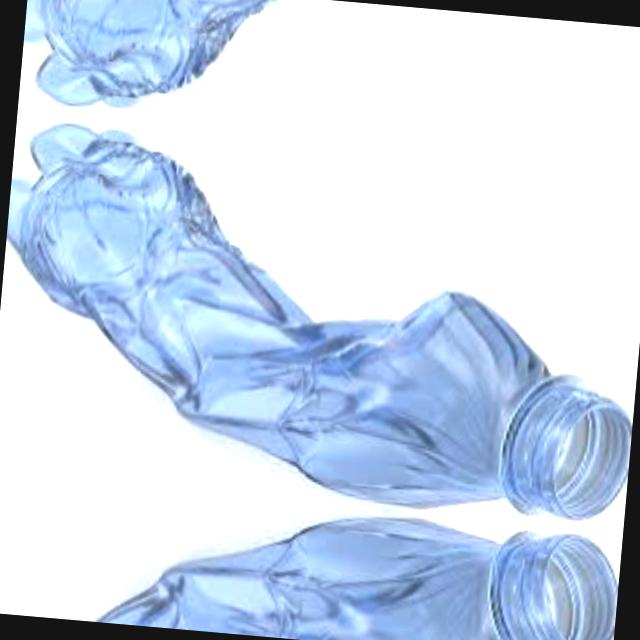Plastic: (0, 108, 640, 523), (17, 0, 640, 164), (0, 481, 622, 640)
